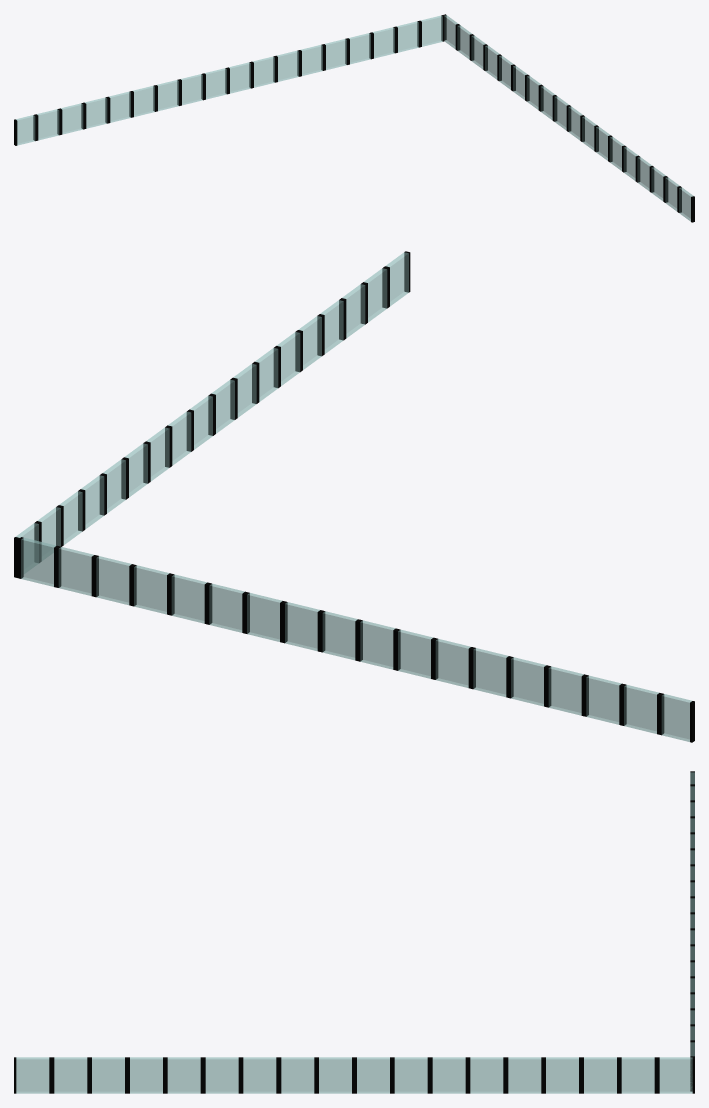
The model's file is level_0_walls.fbx.
3 views of the same model, one above another, from view 1: azimuth 30°, elevation 25°; view 2: azimuth 150°, elevation 25°; view 3: azimuth 270°, elevation 25° (orthographic). The views are drawn at different scales.
Parts seen in each view (by area): view 1: Cube.012, Cube.008; view 2: Cube.012, Cube.008; view 3: Cube.008, Cube.012.
Part boxes in pixels (x1,y1,x2,y2): Cube.012: [14, 15, 444, 145]; Cube.008: [443, 14, 694, 222]; Cube.012: [18, 537, 694, 742]; Cube.008: [14, 251, 410, 578]; Cube.008: [14, 1057, 694, 1093]; Cube.012: [690, 771, 694, 1091].
Size of what is drawn, in the model's own units: 3600 by 200 by 3600.
